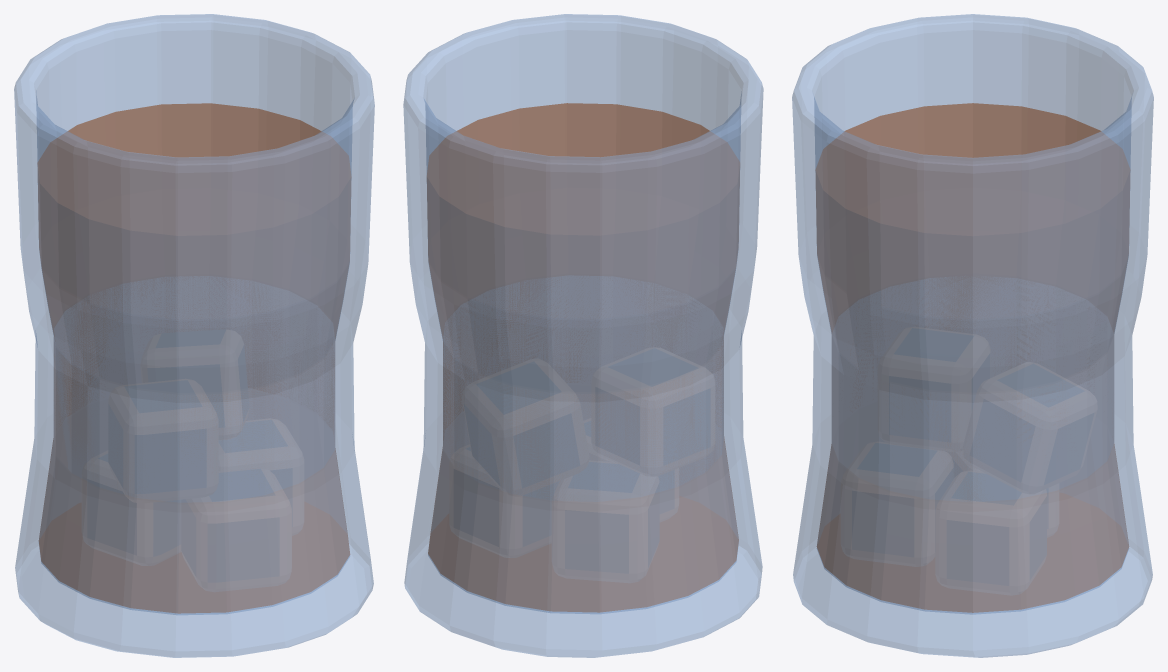
The model's file is Cup.fbx.
3 views of the same model, side by side, from view 1: azimuth 30°, elevation 25°; view 2: azimuth 150°, elevation 25°; view 3: azimuth 270°, elevation 25° (orthographic).
Parts seen in each view (by area): view 1: Cylinder.004, Cylinder.005; view 2: Cylinder.004, Cylinder.005; view 3: Cylinder.004, Cylinder.005.
Boxes of the visible parts, x1,y1,x2,y2 form: Cylinder.004: (14,14,374,657); Cylinder.005: (37,103,351,613); Cylinder.004: (403,14,763,657); Cylinder.005: (427,103,739,612); Cylinder.004: (792,14,1153,657); Cylinder.005: (815,103,1130,612).
Size of the model in its own units: 31.47 by 47.62 by 31.47.
